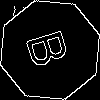B: (25, 25, 79, 70)
